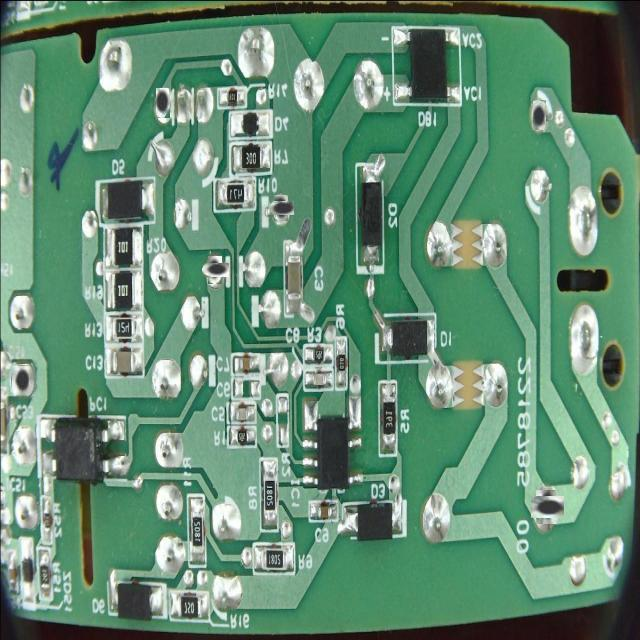damged: (533, 494, 561, 522), (11, 364, 29, 394), (204, 260, 226, 280), (156, 88, 170, 118), (532, 100, 546, 130), (271, 198, 291, 218)
